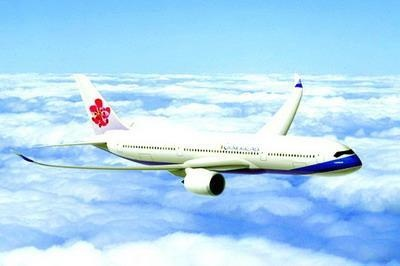airplane: (13, 70, 369, 195)
